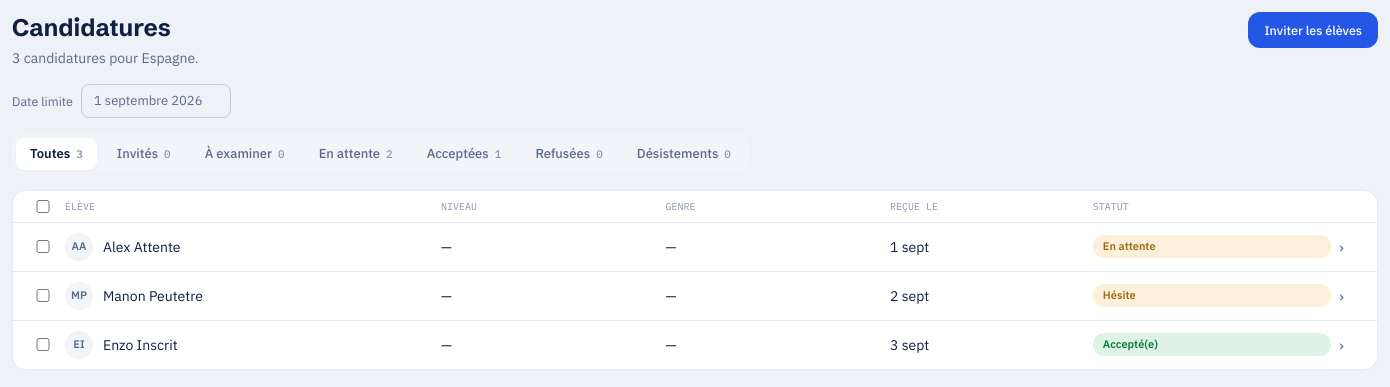
Test case: CandidaturesView › splits organizer-accepted (En attente) from student-confirmed (Acceptées)
Click the button "En attente 2": (356, 154) [305,138,407,170]
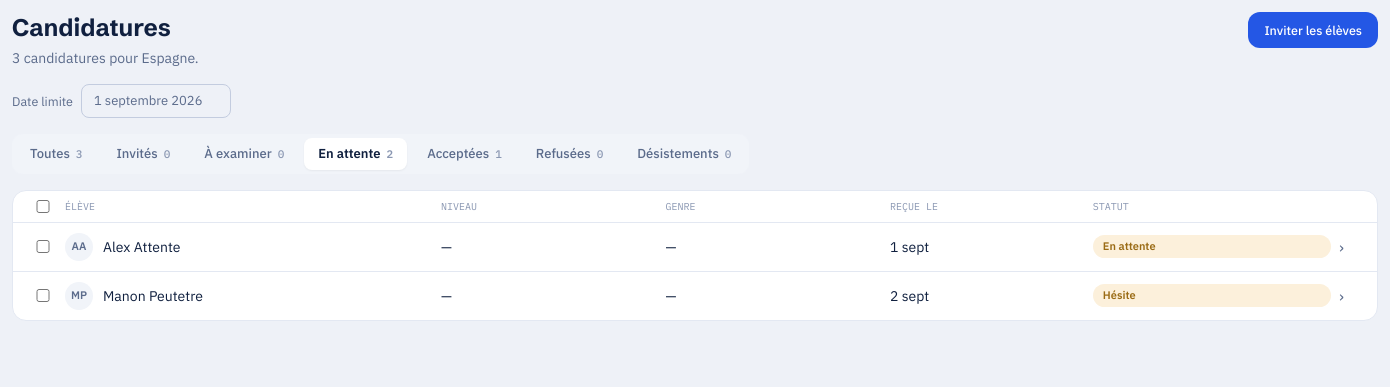
Check: the text "Alex Attente" is shown, box [103,236,180,256]
Check: the text "Enzo Inscrit" is gone
Click the button "Acceptées 1": (465, 154) [413,138,516,170]
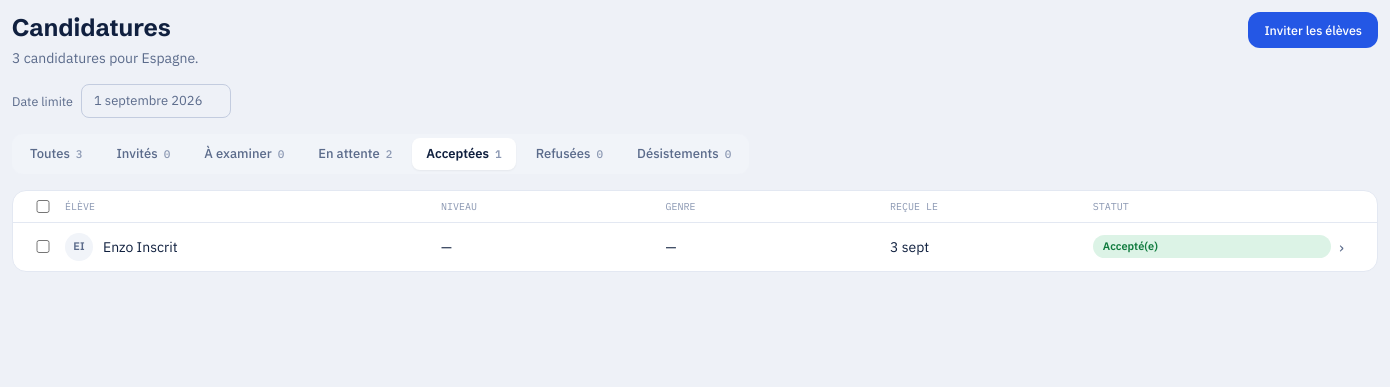
Check: the text "Enzo Inscrit" is shown, box [103,236,178,256]
Check: the text "Alex Attente" is gone
